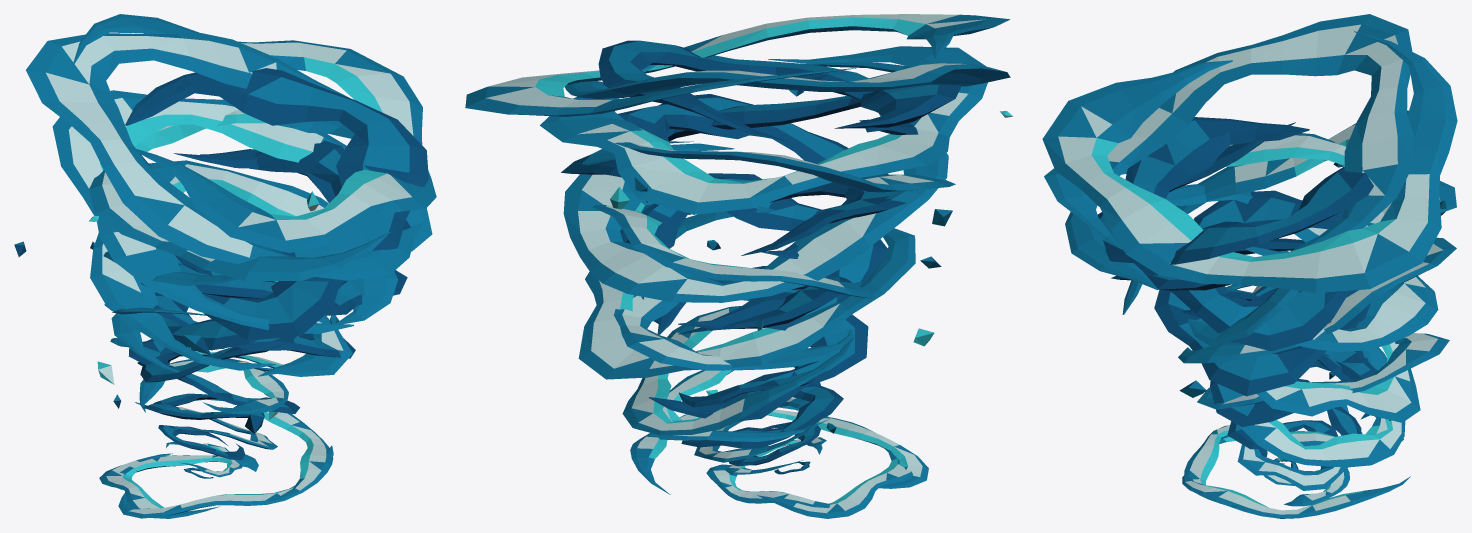
Rendered from Typhoon.glb.
3 views of the same model, side by side, from view 1: azimuth 30°, elevation 25°; view 2: azimuth 150°, elevation 25°; view 3: azimuth 270°, elevation 25° (orthographic). The views are drawn at different scales.
Visible parts, largest first — view 1: Wind_Ribbon_22.003, Wind_Ribbon_23.002, Wind_Ribbon_21.003, Wind_Ribbon_18.003, Wind_Ribbon_14.004, Wind_Ribbon_20.003, Wind_Ribbon_17.003, Wind_Ribbon_10.005, Wind_Ribbon_15.004, Wind_Ribbon_06.005, Ground_Shear_4.001, Wind_Ribbon_11.004 (+12 smaller); view 2: Wind_Ribbon_20.003, Wind_Ribbon_16.004, Wind_Ribbon_23.002, Wind_Ribbon_12.004, Wind_Ribbon_21.003, Wind_Ribbon_22.003, Wind_Ribbon_19.003, Wind_Ribbon_13.004, Wind_Ribbon_08.005, Wind_Ribbon_17.003, Wind_Ribbon_10.005, Wind_Ribbon_14.004 (+14 smaller); view 3: Wind_Ribbon_23.002, Wind_Ribbon_22.003, Wind_Ribbon_19.003, Wind_Ribbon_15.004, Wind_Ribbon_21.003, Wind_Ribbon_16.004, Wind_Ribbon_18.003, Wind_Ribbon_12.004, Wind_Ribbon_08.005, Wind_Ribbon_20.003, Wind_Ribbon_14.004, Wind_Ribbon_10.005 (+10 smaller).
Part boxes in pixels (x1,y1,x2,y2): Wind_Ribbon_22.003: (26, 33, 423, 280); Wind_Ribbon_23.002: (73, 14, 436, 252); Wind_Ribbon_21.003: (125, 68, 428, 281); Wind_Ribbon_18.003: (52, 90, 432, 333); Wind_Ribbon_14.004: (90, 160, 398, 370); Wind_Ribbon_20.003: (89, 110, 390, 280); Wind_Ribbon_17.003: (140, 140, 403, 340); Wind_Ribbon_10.005: (111, 271, 352, 376); Wind_Ribbon_15.004: (175, 255, 407, 315); Wind_Ribbon_06.005: (139, 358, 288, 414); Ground_Shear_4.001: (196, 399, 333, 502); Wind_Ribbon_11.004: (154, 292, 355, 358); Wind_Ribbon_20.003: (540, 46, 987, 214); Wind_Ribbon_16.004: (563, 143, 948, 302); Wind_Ribbon_23.002: (465, 14, 1010, 116); Wind_Ribbon_12.004: (578, 206, 915, 379); Wind_Ribbon_21.003: (598, 40, 918, 141); Wind_Ribbon_22.003: (565, 62, 1010, 98); Wind_Ribbon_19.003: (561, 83, 961, 179); Wind_Ribbon_13.004: (621, 173, 887, 330); Wind_Ribbon_08.005: (622, 306, 854, 435); Wind_Ribbon_17.003: (618, 94, 888, 258); Wind_Ribbon_10.005: (614, 295, 853, 370); Wind_Ribbon_14.004: (592, 200, 875, 298); Wind_Ribbon_23.002: (1042, 31, 1457, 292); Wind_Ribbon_22.003: (1065, 14, 1414, 289); Wind_Ribbon_19.003: (1125, 117, 1350, 351); Wind_Ribbon_15.004: (1154, 190, 1370, 396); Wind_Ribbon_21.003: (1098, 122, 1373, 264); Wind_Ribbon_16.004: (1166, 184, 1438, 351); Wind_Ribbon_18.003: (1122, 110, 1408, 346); Wind_Ribbon_12.004: (1257, 250, 1420, 422); Wind_Ribbon_08.005: (1240, 347, 1405, 467); Wind_Ribbon_20.003: (1044, 133, 1456, 255); Wind_Ribbon_14.004: (1178, 237, 1456, 363); Wind_Ribbon_10.005: (1197, 327, 1449, 409).
Bounding box in the file's own units: 9.71 × 9.65 × 8.91.
